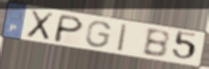5: (171, 31, 199, 64)
B: (140, 28, 171, 59)
G: (84, 20, 113, 49)
I: (116, 22, 129, 54)
P: (51, 13, 85, 44)
X: (25, 8, 56, 42)
